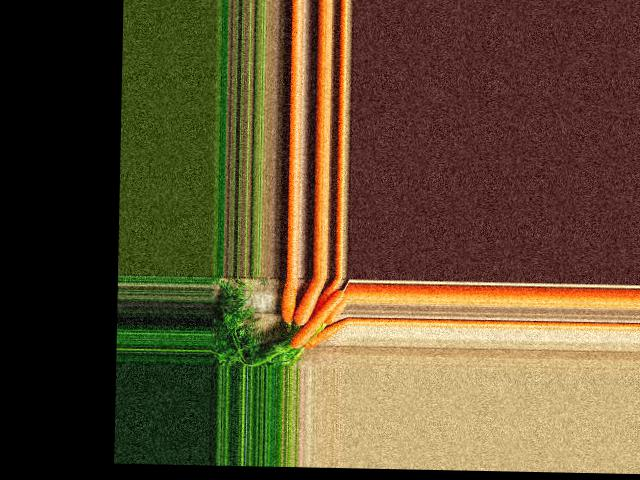carrot: (322, 290, 324, 325)
